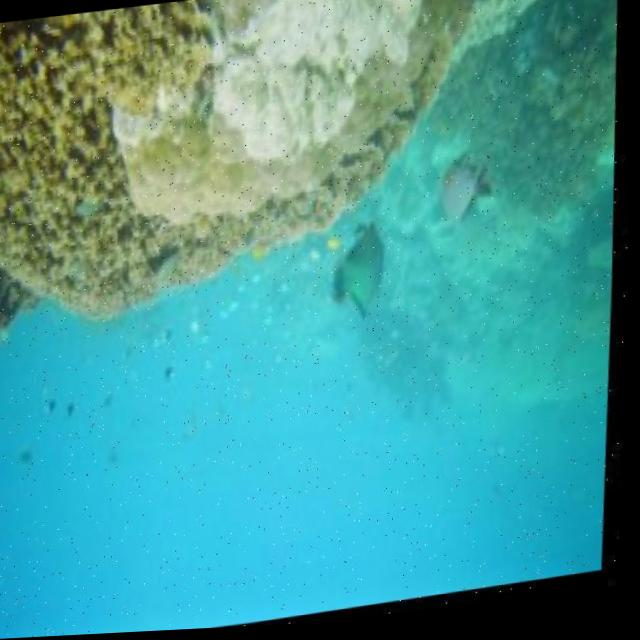Bleached Coral: (120, 0, 450, 203)
